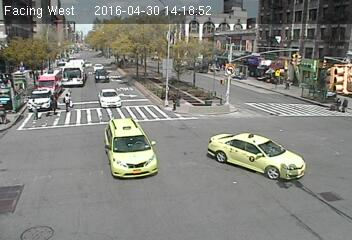neg: (119, 120, 154, 166), (107, 30, 135, 68), (302, 179, 328, 214), (231, 127, 255, 159), (23, 183, 47, 215), (282, 111, 304, 141), (179, 150, 200, 178), (206, 33, 227, 61), (207, 142, 228, 169), (279, 202, 297, 226), (204, 185, 222, 208), (78, 119, 94, 140), (150, 67, 165, 88), (185, 99, 200, 119), (240, 56, 255, 76), (75, 195, 90, 214), (133, 195, 147, 215), (290, 164, 304, 182), (87, 64, 100, 81), (199, 71, 208, 83)
pos: (23, 94, 44, 121), (58, 90, 75, 112), (45, 92, 60, 112), (337, 96, 350, 113), (331, 95, 342, 111)
